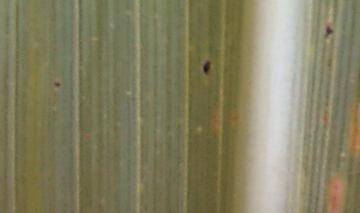tarspot: (202, 59, 212, 76), (325, 25, 334, 38), (53, 80, 62, 89)
